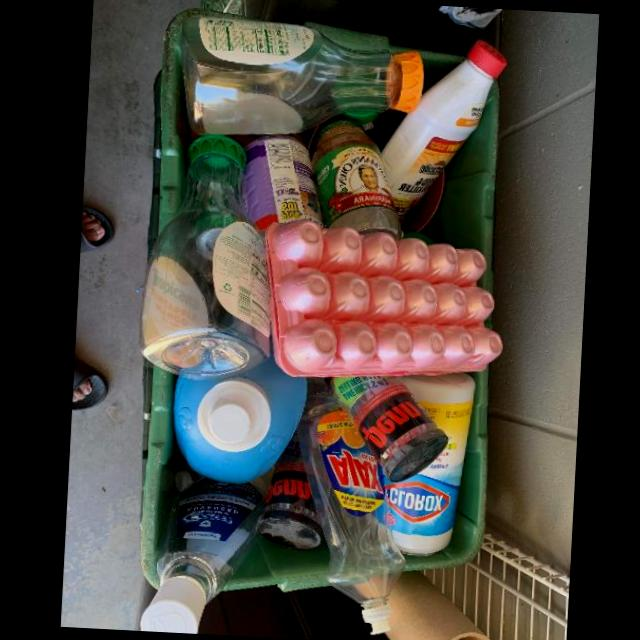chai_nhua: (297, 390, 408, 636), (383, 39, 506, 226)
chai_thuy_tinh: (139, 136, 271, 379), (178, 8, 424, 134), (140, 478, 266, 634), (308, 121, 401, 237)
hop_nhua: (381, 370, 476, 557), (172, 359, 310, 485)
nhom: (331, 374, 446, 482)
